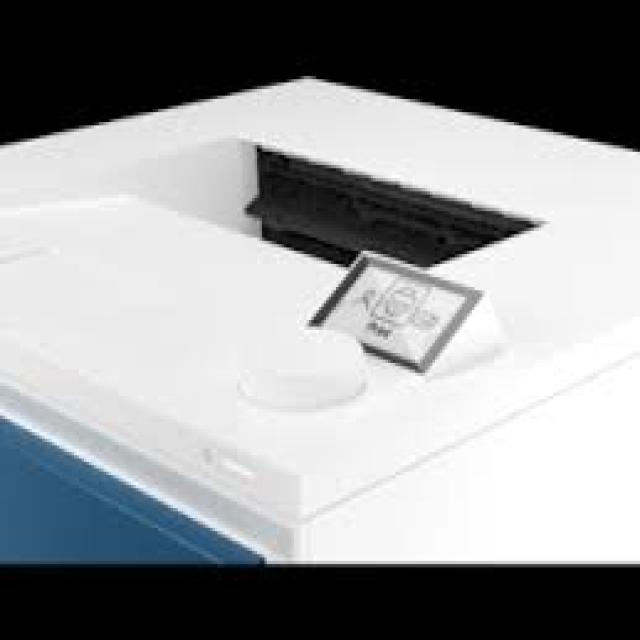printer: (0, 69, 638, 564)
